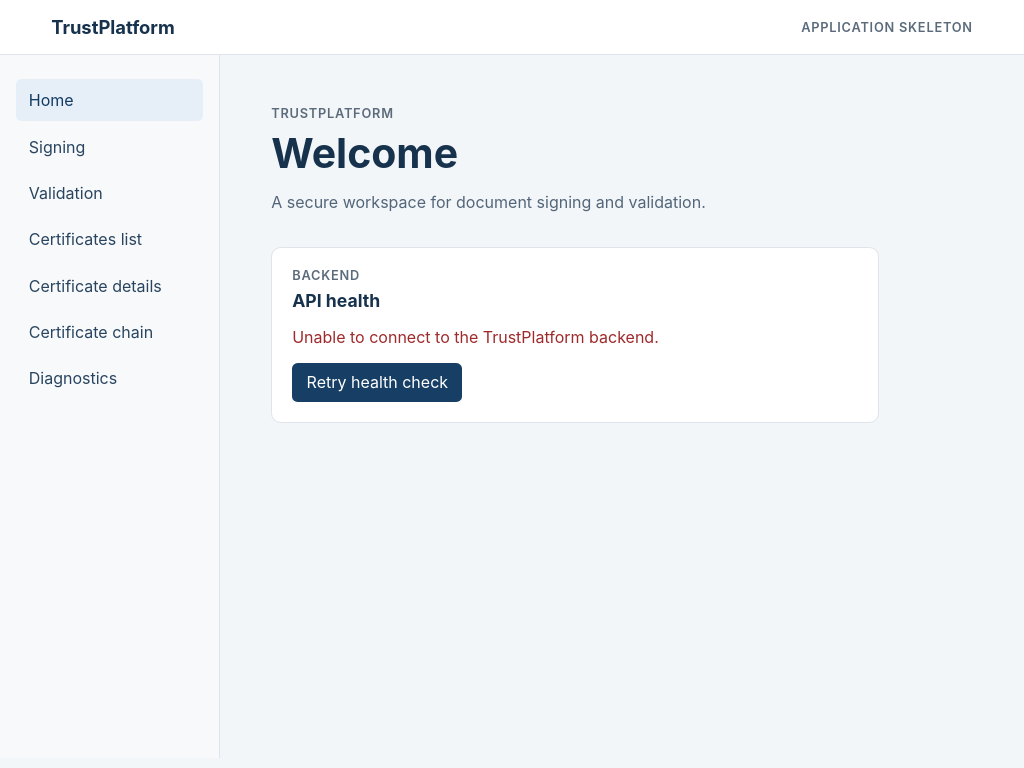
Test case: TrustPlatform application shell › shows a safe error and can retry the health check
The image size is (1024, 768).
Expected: the message shows "Unable to connect to the TrustPlatform backend.", [292,327,659,347]
Expected: the message does not show "internal network detail", [292,327,659,402]
Click the button "Retry health check" at (377, 382), box [292,363,462,402]
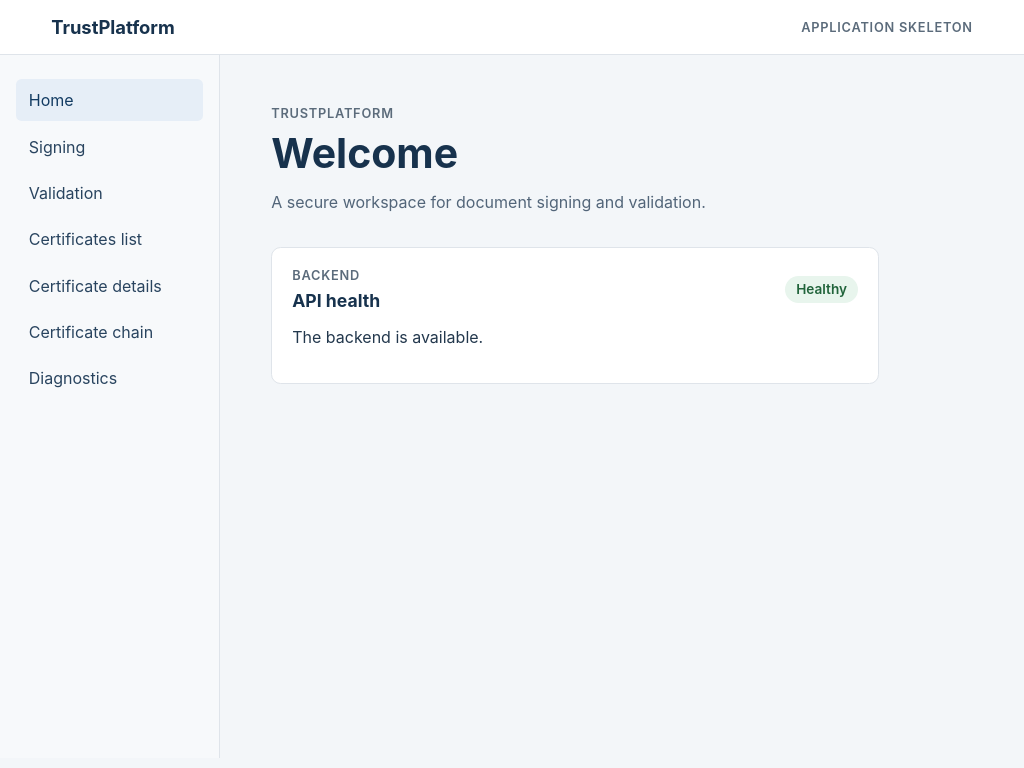
Expected: the message reads "The backend is available.", [292,327,483,347]
